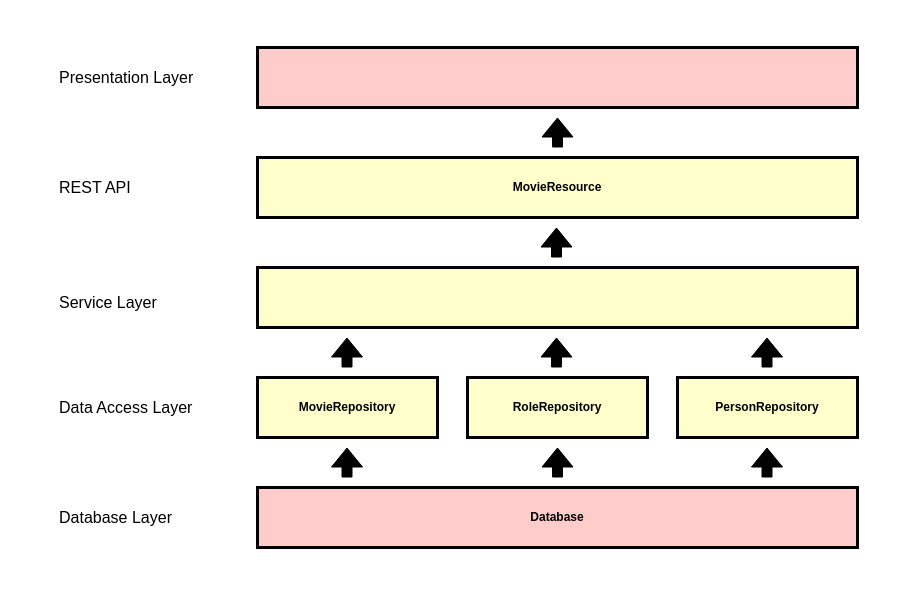
Image size: 914x604. Some labels were removed from this diagram. Here are the shapes that lost their labels. From the top down, the centre of each, then its label:
At pixel 557 77: "User Interface".
At pixel 557 297: "MovieService".
